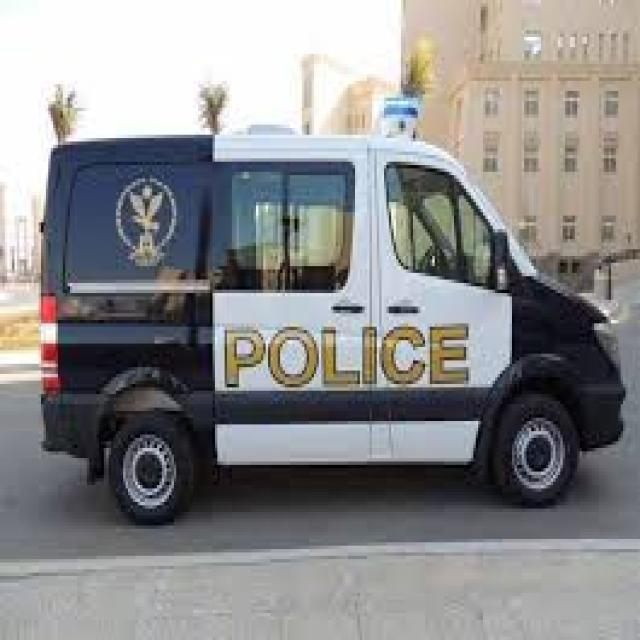fire_truck: (39, 91, 628, 510)
